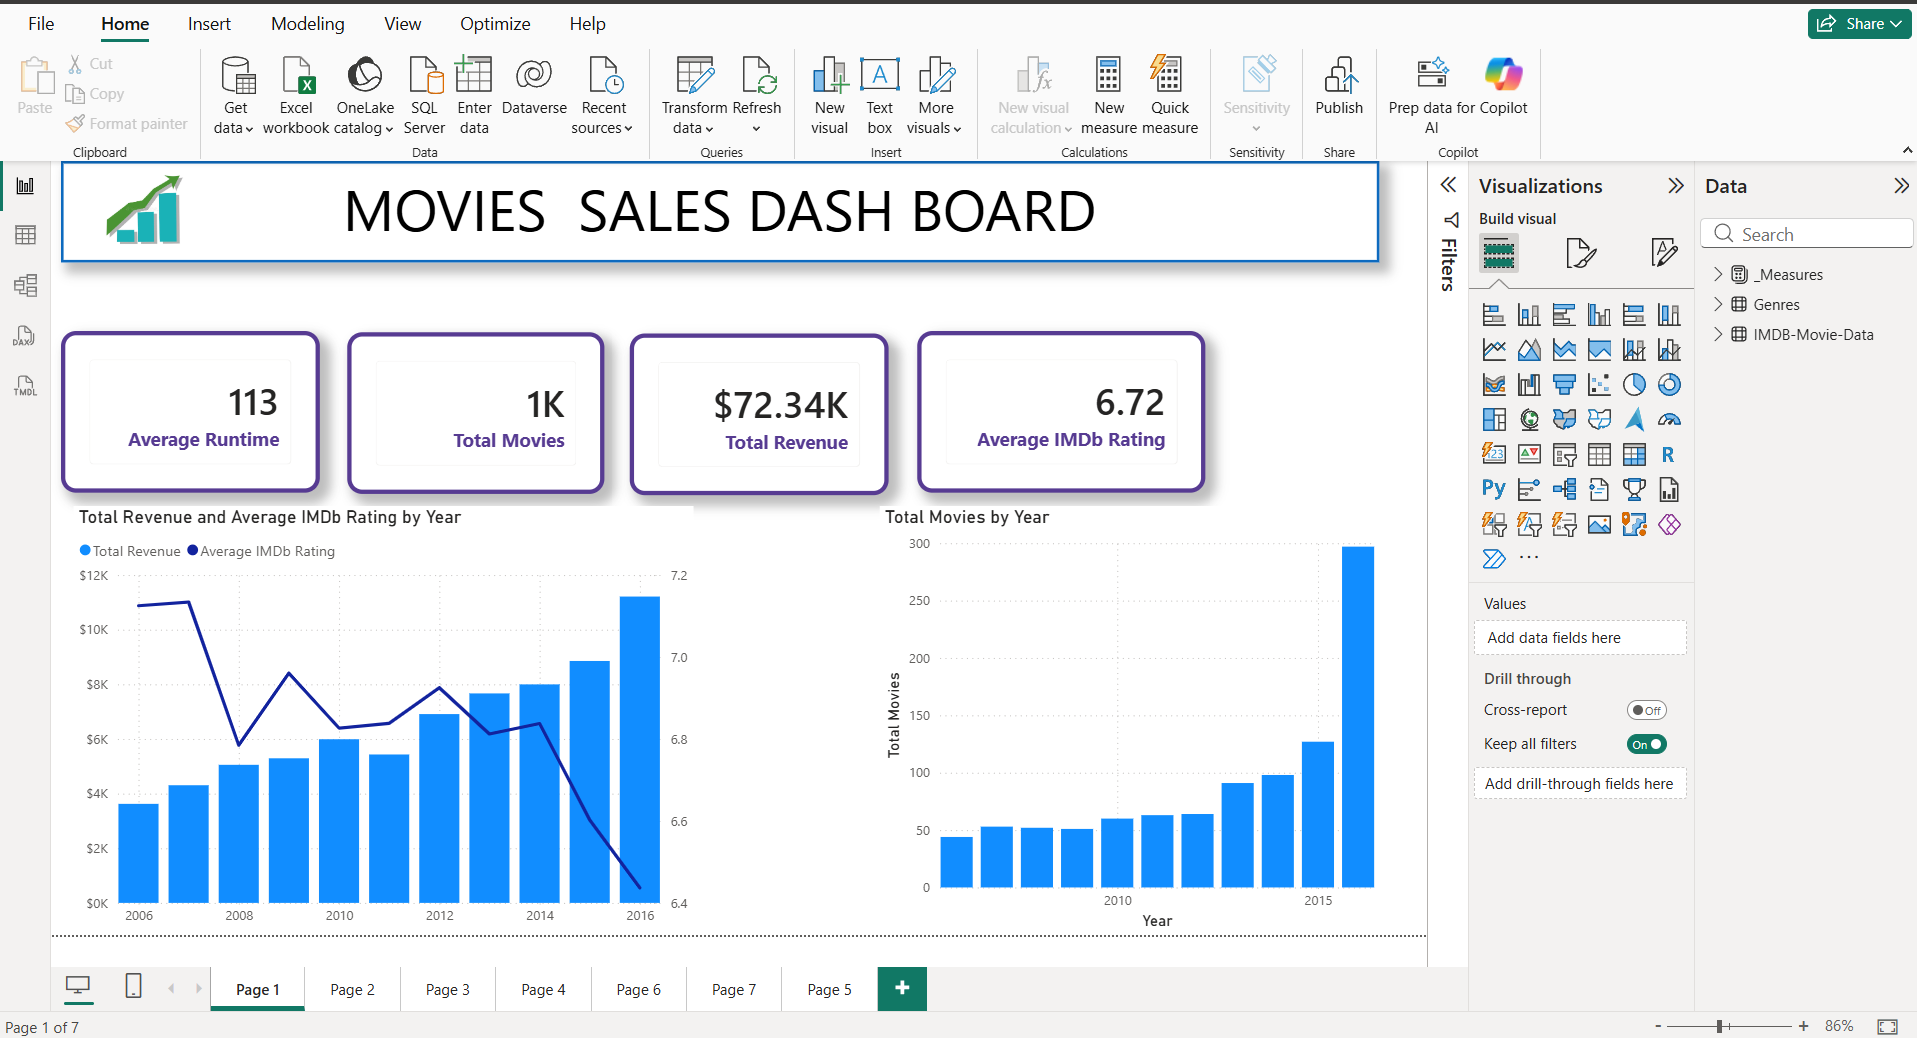

What the dashboard file says about the page in this screenshot:
{"tool":"powerbi","page":{"name":"Page 1","canvas":[1280,720],"ordinal":0},"visuals":[{"type":"cardVisual","fields":{"Data":["_Measures.Average Runtime"]},"box":[9.3,158.1,240.9,150],"z":0},{"type":"cardVisual","fields":{"Data":["_Measures.Total Movies"]},"box":[275.6,159.3,239.5,150],"z":1000},{"type":"cardVisual","fields":{"Data":["_Measures.Total Revenue"]},"box":[538.4,160.5,240.9,150],"z":2000},{"type":"cardVisual","fields":{"Data":["_Measures.Average IMDb Rating"]},"box":[805.8,158.1,268.4,150],"z":3000},{"type":"lineClusteredColumnComboChart","fields":{"Category":["IMDB-Movie-Data.Year"],"Y":["_Measures.Total Revenue"],"Y2":["_Measures.Average IMDb Rating"]},"box":[20.9,320.9,576.7,399.1],"z":4000},{"type":"clusteredColumnChart","fields":{"Category":["IMDB-Movie-Data.Year"],"Y":["_Measures.Total Movies"]},"box":[770.9,320.9,465.1,398.8],"z":5000},{"type":"textbox","box":[9.3,0,1226.7,94.2],"z":6000},{"type":"image","box":[0,3.5,169.8,80.2],"z":7000}]}

Visuals, with their boxes on the page's 1280x720 design canvas (x1, y1, x2, y2). These are canvas units, not pixel positions in the 1917x1038 screenshot, which may show the page scaled, cropped or inside an application window:
cardVisual - _Measures.Average Runtime: left=9, top=158, right=250, bottom=308
cardVisual - _Measures.Total Movies: left=276, top=159, right=515, bottom=309
cardVisual - _Measures.Total Revenue: left=538, top=160, right=779, bottom=310
cardVisual - _Measures.Average IMDb Rating: left=806, top=158, right=1074, bottom=308
lineClusteredColumnComboChart - IMDB-Movie-Data.Year x _Measures.Total Revenue: left=21, top=321, right=598, bottom=720
clusteredColumnChart - IMDB-Movie-Data.Year x _Measures.Total Movies: left=771, top=321, right=1236, bottom=720
textbox: left=9, top=0, right=1236, bottom=94
image: left=0, top=4, right=170, bottom=84
